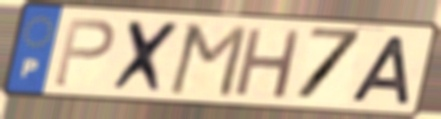7: (296, 25, 366, 106)
A: (347, 33, 414, 107)
H: (231, 25, 306, 101)
M: (164, 21, 251, 100)
P: (50, 16, 118, 90)
X: (108, 17, 186, 97)
